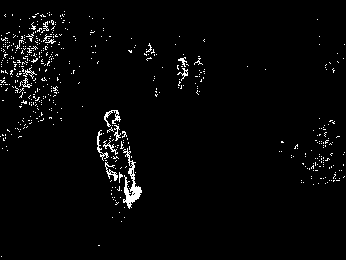person: (95, 108, 143, 212)
